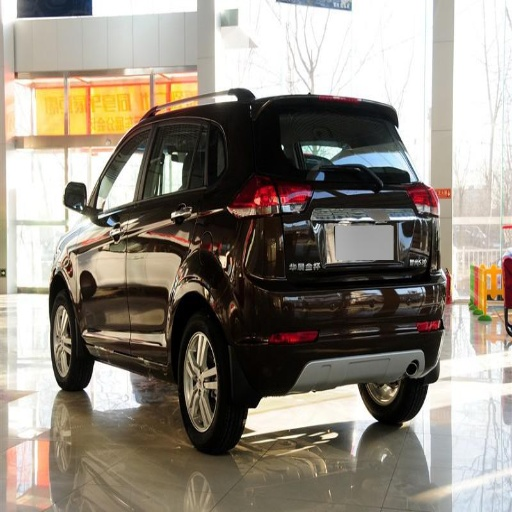back_bumper: (247, 278, 441, 375)
back_glass: (253, 105, 409, 188)
back_left_door: (128, 112, 203, 345)
trunk: (283, 188, 430, 319)
